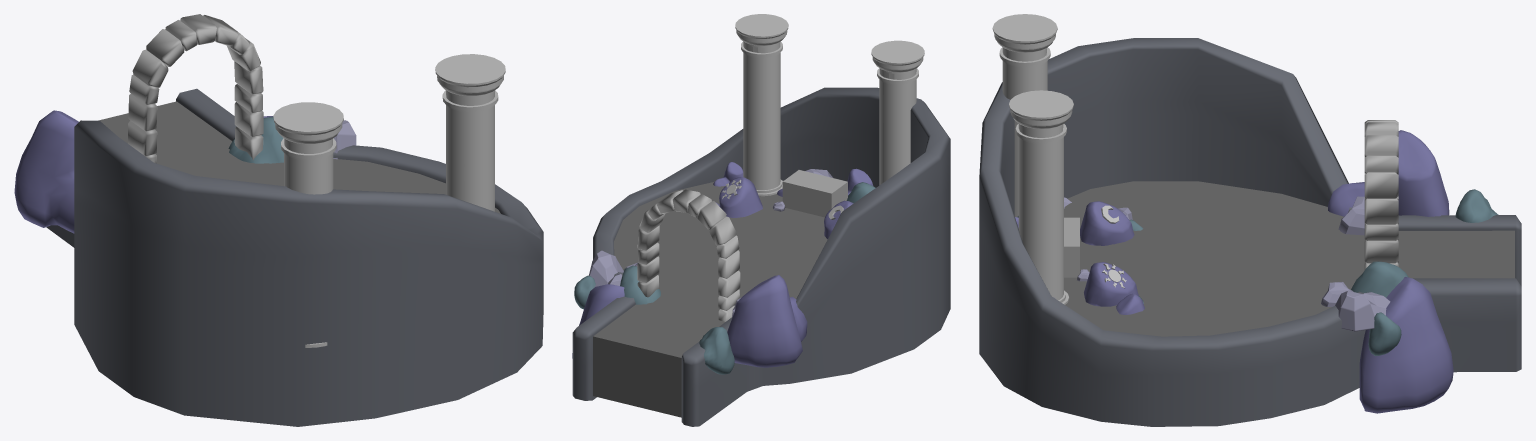
File: ChestRoom.fbx
3 renders of one model, left to right at view 1: azimuth 30°, elevation 25°; view 2: azimuth 150°, elevation 25°; view 3: azimuth 270°, elevation 25°, orthographic. The views are drawn at different scales.
Visible parts, largest first — view 1: walls, rocks_lp2, floor2, pilar4, rock_02_lp9, pilar3, rock_03_lp23; view 2: walls, floor2, pilar4, rock_02_lp9, rocks_lp2, pilar3, chest_placeholder, rock_03_lp20, rock_02_lp6, blocky_rock_divison_lp6, rock_02_lp5, rock_03_lp23 (+3 smaller); view 3: walls, floor2, pilar4, rock_02_lp5, rocks_lp2, pilar3, rock_02_lp9, rock_02_lp11, blocky_rock_divison_lp6, rock_02_lp6, rock_03_lp23, rock_03_lp19 (+3 smaller).
Boxes of the visible parts, x1,y1,x2,y2 form: walls: (46,88,543,426); rocks_lp2: (128,14,263,163); floor2: (98,101,500,213); pilar4: (435,54,505,211); rock_02_lp9: (14,110,78,233); pilar3: (273,102,343,347); rock_03_lp23: (228,116,283,163); walls: (572,87,950,426); floor2: (593,180,827,417); pilar4: (735,14,788,196); rock_02_lp9: (727,275,807,367); rocks_lp2: (637,189,740,321); pilar3: (871,40,924,185); chest_placeholder: (782,170,847,217); rock_03_lp20: (699,327,734,374); rock_02_lp6: (719,177,762,217); blocky_rock_divison_lp6: (589,250,623,287); rock_02_lp5: (572,284,624,358); rock_03_lp23: (620,265,660,304); walls: (979,38,1521,426); floor2: (1064,181,1514,336); pilar4: (1009,90,1073,304); rock_02_lp5: (1359,277,1453,413); rocks_lp2: (1364,120,1398,269); pilar3: (992,14,1057,217); rock_02_lp9: (1328,130,1449,216); rock_02_lp11: (1080,201,1134,245); blocky_rock_divison_lp6: (1335,290,1390,331); rock_02_lp6: (1084,262,1138,306); rock_03_lp23: (1351,261,1408,297); rock_03_lp19: (1368,312,1401,355).
Bounding box in the file's own units: 29.09 × 22.02 × 36.94.
